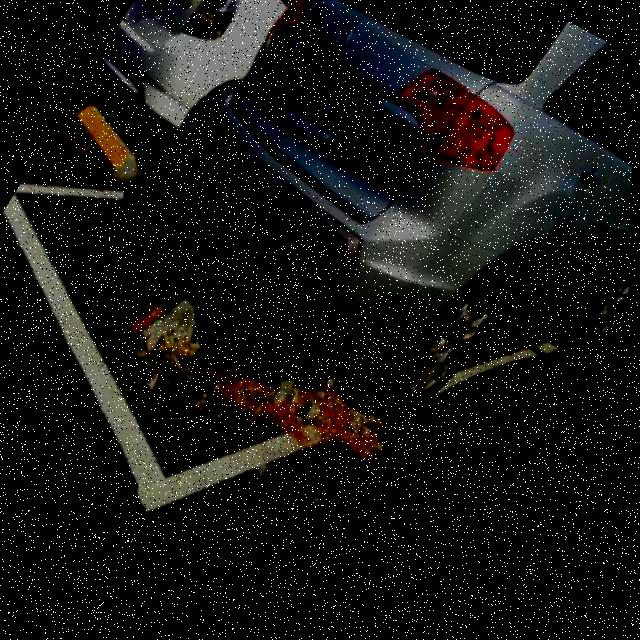license_plate: (285, 54, 362, 137), (137, 0, 174, 22)
